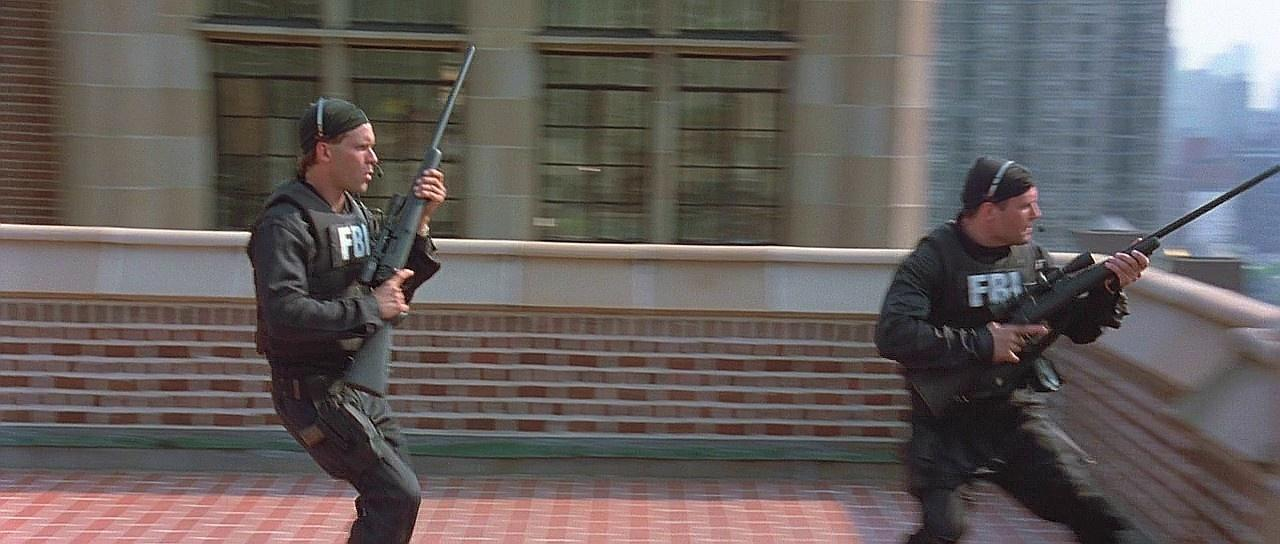gun: (894, 157, 1280, 427), (339, 36, 484, 407)
